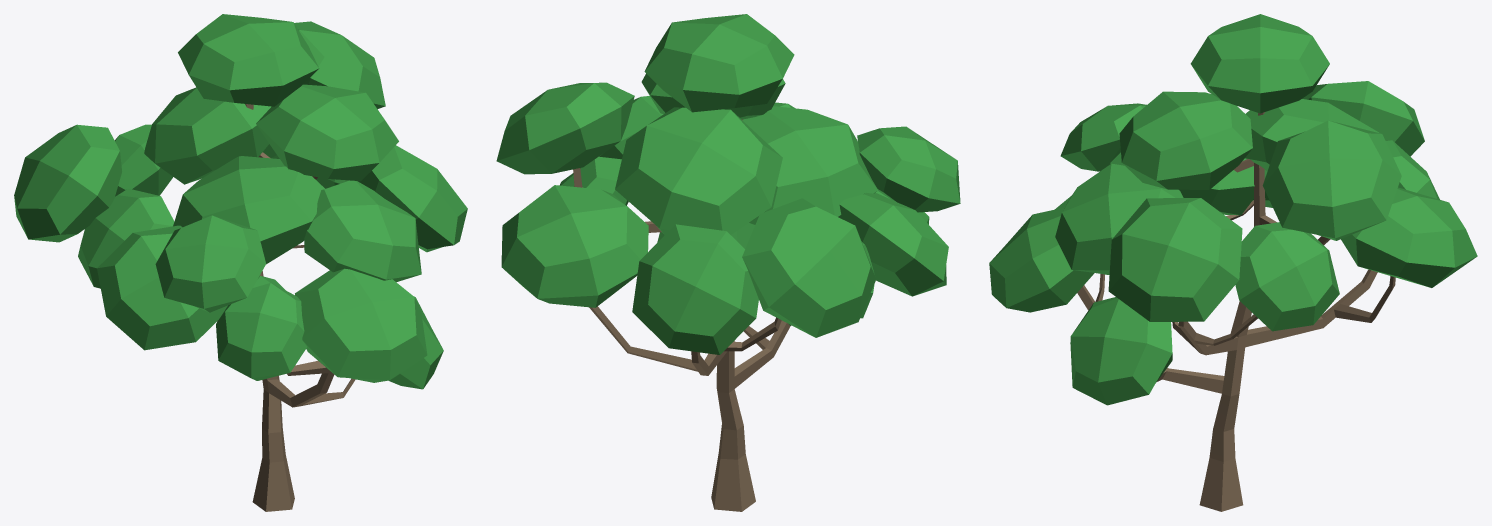
The model's file is tree_a_2.FBX.
3 renders of one model, left to right at view 1: azimuth 30°, elevation 25°; view 2: azimuth 150°, elevation 25°; view 3: azimuth 270°, elevation 25°, orthographic. The views are drawn at different scales.
Parts seen in each view (by area): view 1: tree_a_2; view 2: tree_a_2; view 3: tree_a_2.
Boxes of the visible parts, left/top/right/bottom form: tree_a_2: left=14, top=14, right=467, bottom=511; tree_a_2: left=496, top=14, right=960, bottom=511; tree_a_2: left=989, top=14, right=1477, bottom=511.
Size of the model in its own units: 4.55 by 5.83 by 5.47.
